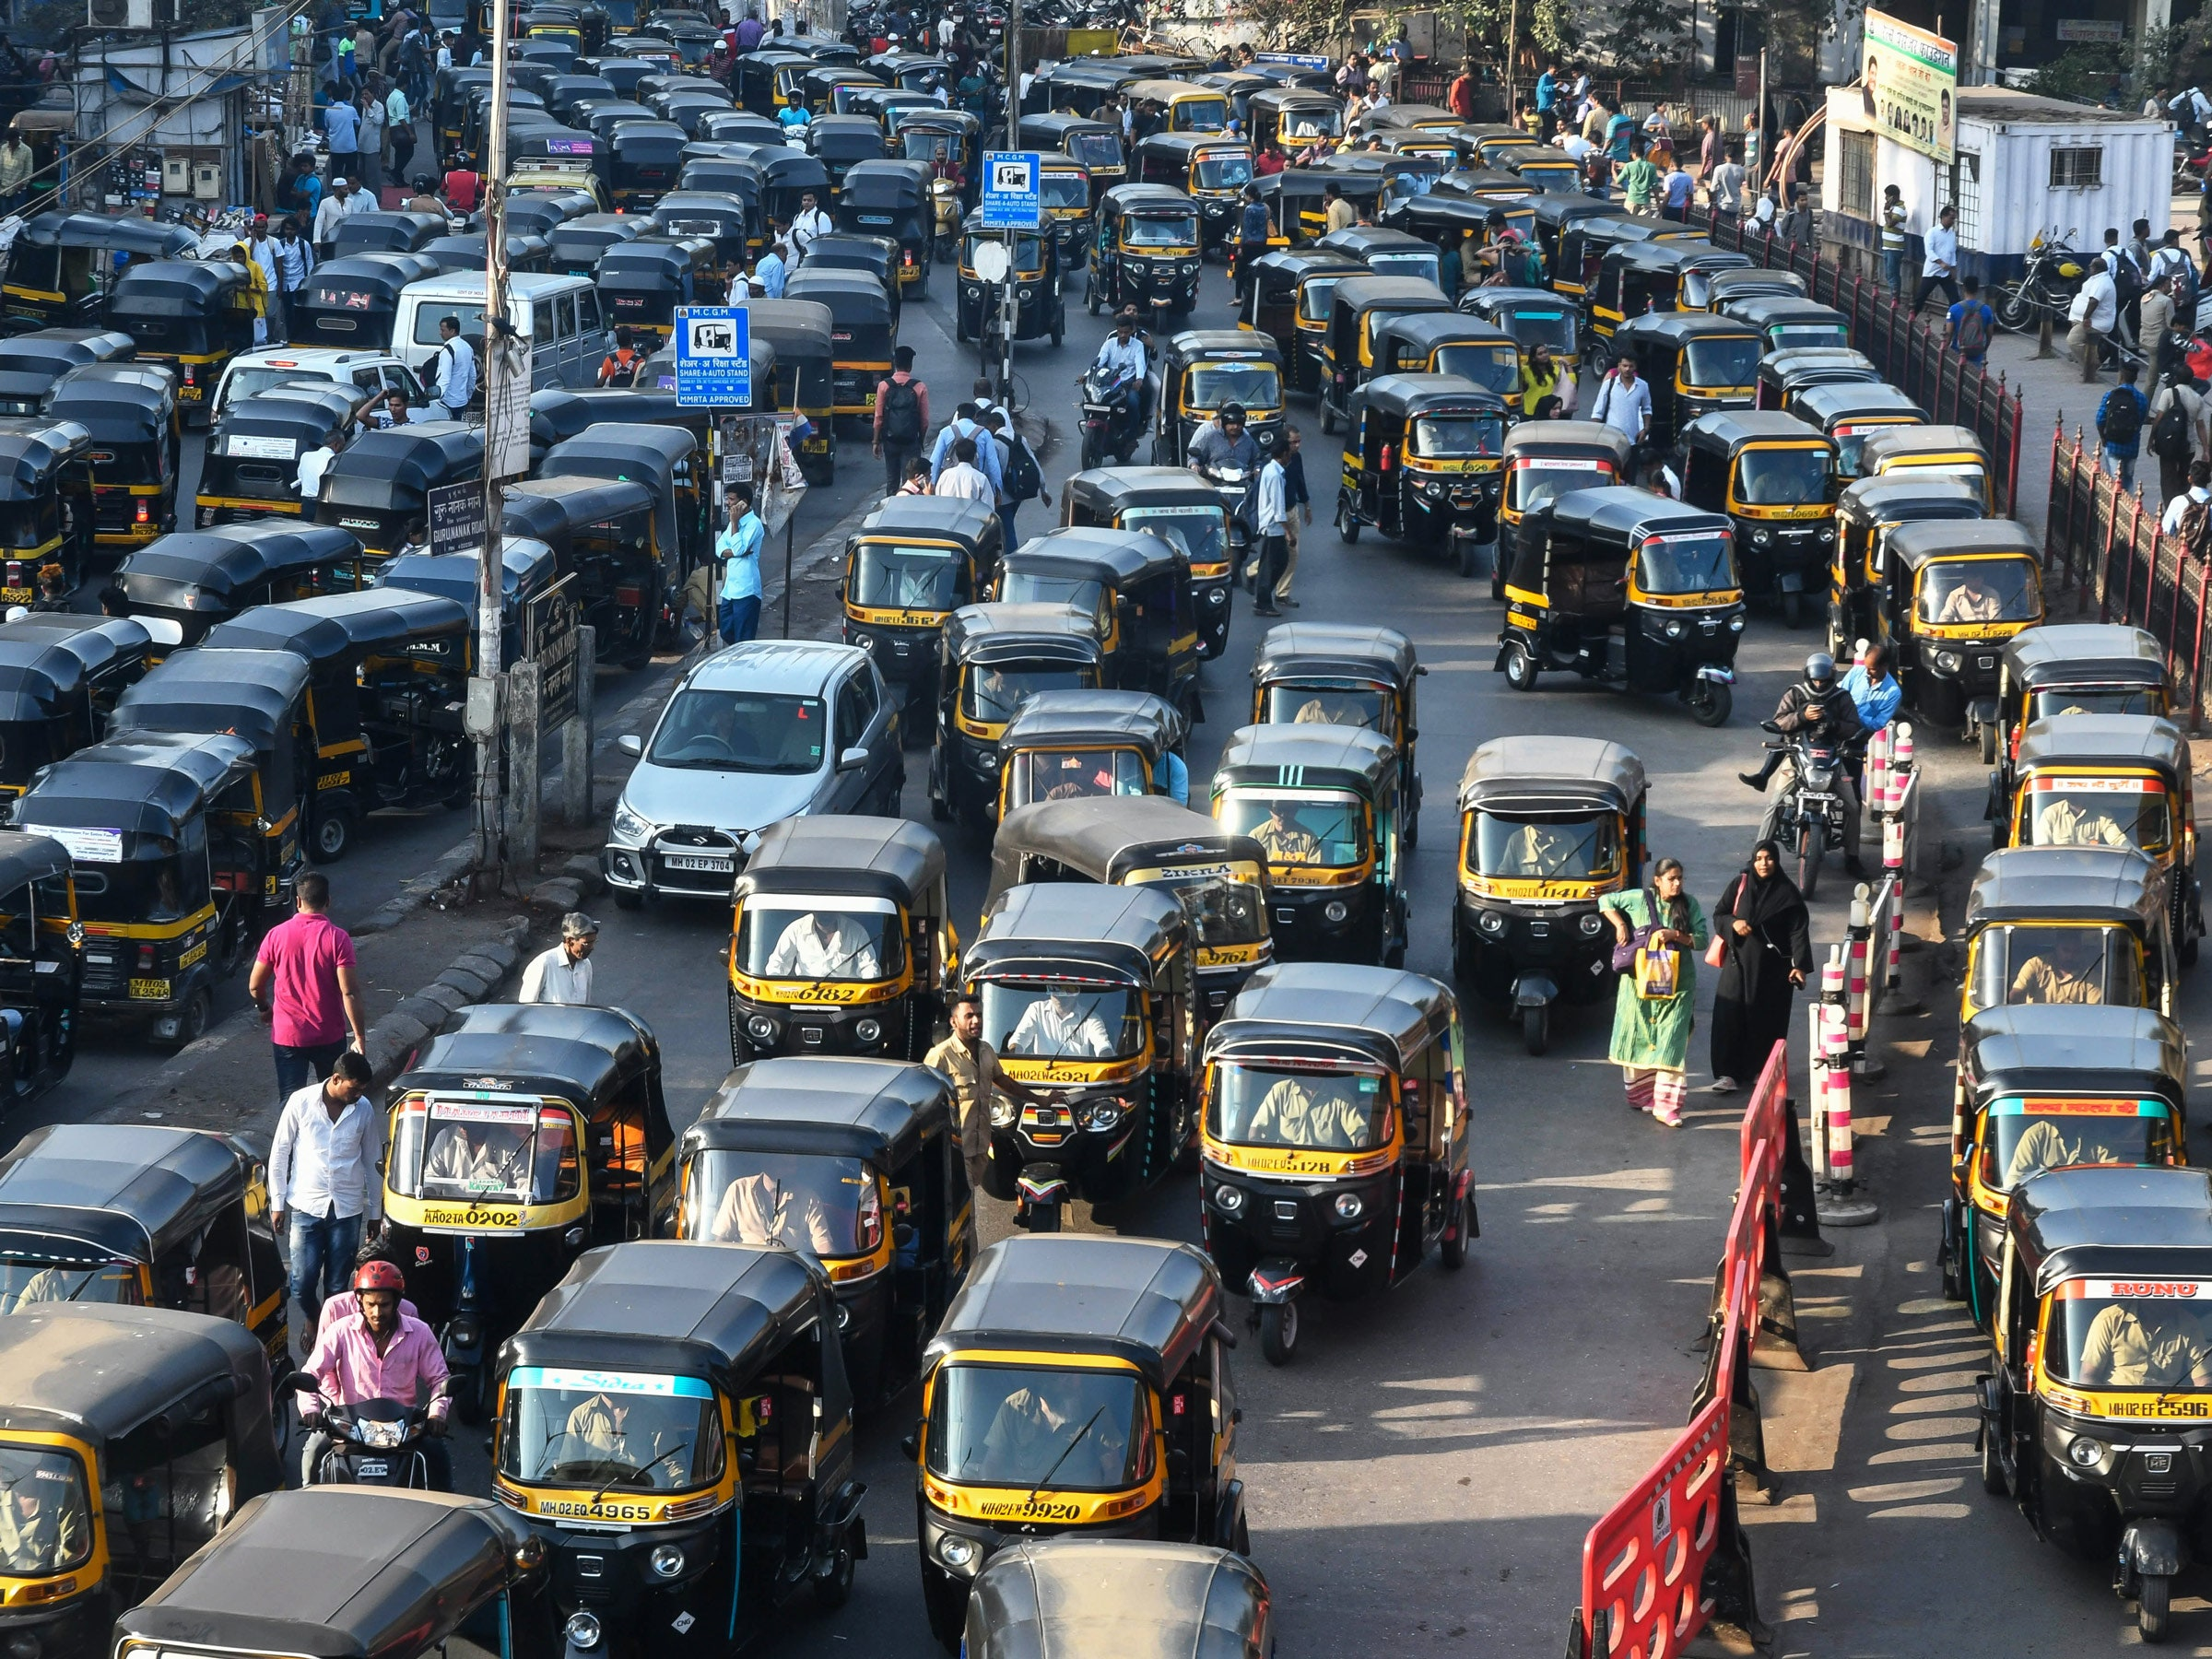bike: (312, 1260, 460, 1485), (1777, 659, 1872, 878), (2000, 225, 2135, 340), (1076, 322, 1155, 467), (1190, 413, 1278, 533)
car: (610, 605, 902, 885), (387, 256, 624, 387)
rickshaw: (512, 1244, 867, 1638), (1191, 955, 1508, 1359), (923, 1230, 1261, 1535), (2003, 1150, 2188, 1622), (678, 1054, 946, 1354), (956, 878, 1191, 1215), (26, 734, 296, 1025), (12, 1277, 270, 1560), (1442, 734, 1649, 1056), (385, 1011, 643, 1267), (155, 1478, 510, 1659), (239, 598, 514, 814), (17, 1108, 291, 1321), (1937, 978, 2175, 1218), (1508, 481, 1752, 714), (718, 816, 948, 1053), (1932, 823, 2163, 1047), (129, 647, 369, 857), (1212, 728, 1425, 948), (1662, 406, 1838, 617), (1007, 511, 1204, 674), (1334, 364, 1505, 542), (1993, 690, 2170, 857), (852, 483, 1014, 664), (1890, 505, 2020, 718), (1244, 619, 1446, 751), (984, 688, 1183, 810), (44, 378, 193, 530), (542, 429, 721, 542), (101, 253, 247, 389), (1151, 315, 1284, 455), (125, 538, 388, 608), (10, 601, 152, 718), (794, 261, 904, 411), (836, 155, 949, 300), (1092, 192, 1223, 315), (216, 380, 359, 490), (1625, 293, 1766, 396), (583, 227, 712, 336), (960, 202, 1061, 338), (1477, 286, 1580, 403), (308, 249, 409, 324)
